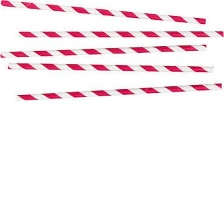drinking_straw: (11, 78, 224, 105), (0, 0, 210, 27)
